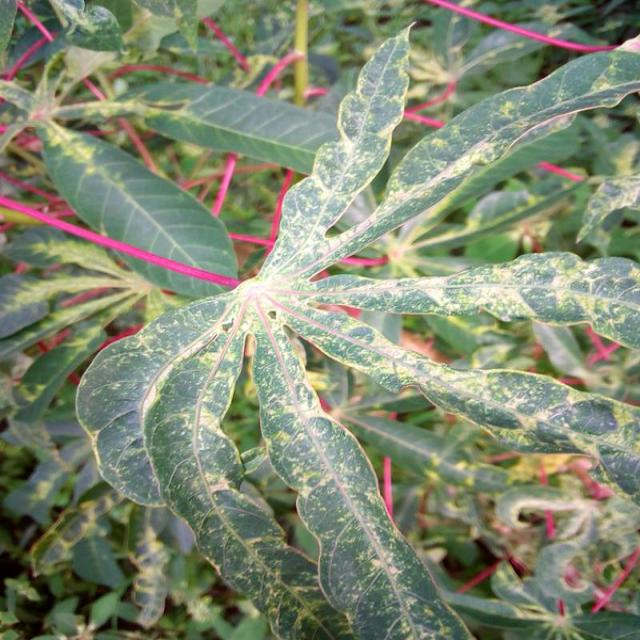cassava leaf: (58, 20, 640, 636), (32, 115, 242, 300)
